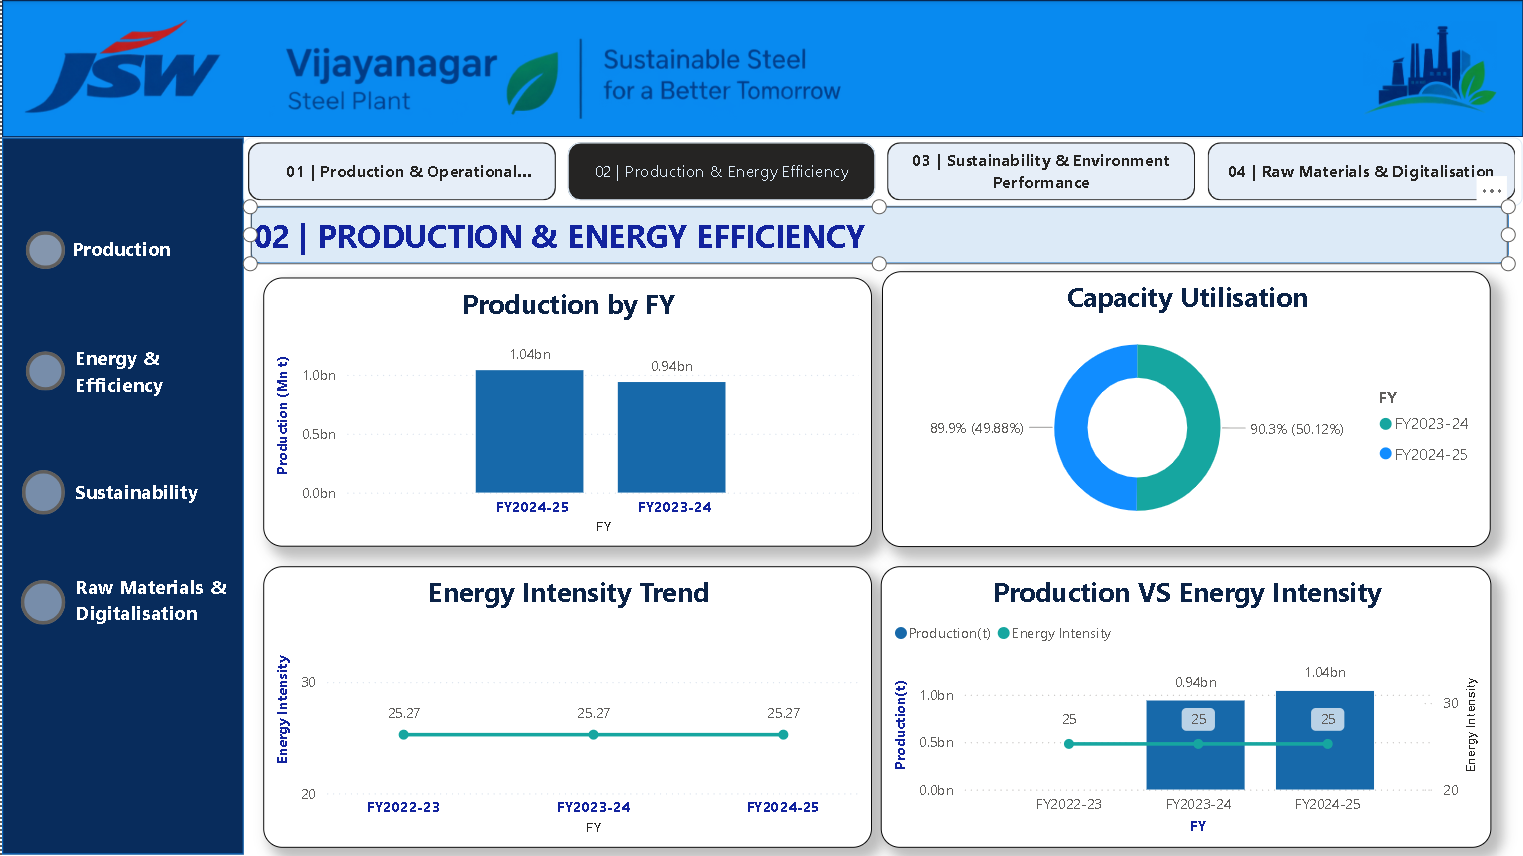

The page's visual inventory and layout, read from the dashboard file:
{"tool":"powerbi","page":{"name":"02 | Production & Energy Efficiency","canvas":[1280,720],"ordinal":1},"visuals":[{"type":"clusteredColumnChart","title":"Production by FY","fields":{"Category":["Dim FY.FY"],"Y":["Sum(Production.Crude_Steel_Production_t)"]},"box":[219.3,233.7,512.2,226.5],"z":0},{"type":"donutChart","title":"Capacity Utilisation ","fields":{"Y":["Production.Average Capacity Utilisation"],"Category":["Dim FY.FY"]},"box":[740.1,228,512.2,232.3],"z":1000},{"type":"lineChart","title":"Energy Intensity Trend","fields":{"Category":["Dim FY.FY"],"Y":["Energy.Average Energy Intensity"]},"box":[219.3,476.1,512.2,236.6],"z":2000},{"type":"lineClusteredColumnComboChart","title":"Production VS Energy Intensity","fields":{"Category":["Dim FY.FY"],"Y":["Sum(Production.Crude_Steel_Production_t)"],"Y2":["Avg(Energy.Energy_GJ_per_tcs)"]},"box":[738.7,476.1,513.6,236.6],"z":3000},{"type":"shape","box":[0,115.4,203.4,603.1],"z":4000},{"type":"shape","box":[0,0,1279.7,115.4],"z":5000},{"type":"shape","box":[209.1,173.5,1058.1,48.4],"z":6000},{"type":"actionButton","box":[20.2,194.8,33.2,31.7],"z":7000},{"type":"textbox","box":[53.4,191.9,103.9,39],"z":8000},{"type":"textbox","box":[56.3,284.2,102.4,59.2],"z":9000},{"type":"actionButton","box":[20.2,295.8,33.2,33.2],"z":10000},{"type":"textbox","box":[56.3,396.8,124.1,46.2],"z":11000},{"type":"actionButton","box":[17.3,395.3,36.1,37.5],"z":12000},{"type":"textbox","box":[56.3,476.1,147.2,60.6],"z":13000},{"type":"actionButton","box":[15.9,487.7,37.5,37.5],"z":14000},{"type":"pageNavigator","box":[203.4,115.4,1076.3,57.7],"z":15000},{"type":"image","box":[13,8.7,177.5,98.1],"z":16000},{"type":"image","box":[129.8,0,411.2,115.4],"z":17000},{"type":"image","box":[1139.8,0,122.6,115.4],"z":18000},{"type":"image","box":[414.1,0,300.1,127],"z":19000},{"type":"image","box":[1213.3,172.4,53.6,53.6],"z":20000}]}

Visuals, with their boxes in screenshot pixels (x1, y1, x2, y2), scaled from the page's 1280x720 canvas onto the 1523x856 screenshot:
"Production by FY" clusteredColumnChart: crop(261, 278, 870, 547)
"Capacity Utilisation " donutChart: crop(881, 271, 1490, 547)
"Energy Intensity Trend" lineChart: crop(261, 566, 870, 847)
"Production VS Energy Intensity" lineClusteredColumnComboChart: crop(879, 566, 1490, 847)
shape: crop(0, 137, 242, 854)
shape: crop(0, 0, 1522, 137)
shape: crop(249, 206, 1508, 264)
actionButton: crop(24, 232, 64, 269)
textbox: crop(64, 228, 187, 275)
textbox: crop(67, 338, 189, 408)
actionButton: crop(24, 352, 64, 391)
textbox: crop(67, 472, 215, 527)
actionButton: crop(21, 470, 64, 515)
textbox: crop(67, 566, 242, 638)
actionButton: crop(19, 580, 64, 624)
pageNavigator: crop(242, 137, 1522, 206)
image: crop(15, 10, 227, 127)
image: crop(154, 0, 644, 137)
image: crop(1356, 0, 1502, 137)
image: crop(493, 0, 850, 151)
image: crop(1444, 205, 1507, 269)
